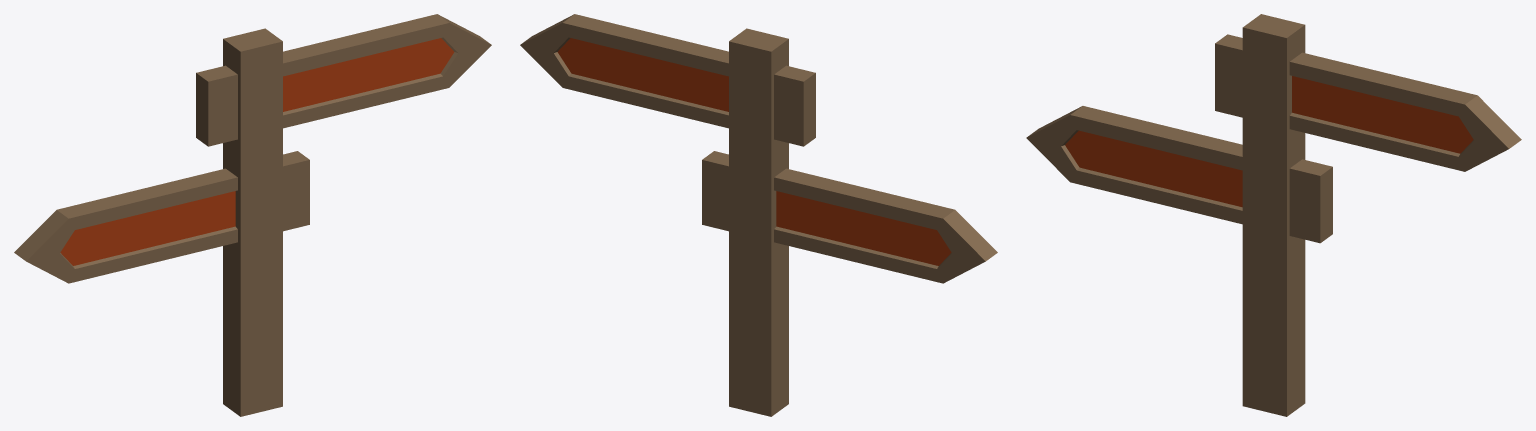
The model's file is SM_SignBoard_01_B.fbx.
3 renders of one model, left to right at view 1: azimuth 30°, elevation 25°; view 2: azimuth 150°, elevation 25°; view 3: azimuth 330°, elevation 25°, orthographic. The views are drawn at different scales.
Parts seen in each view (by area): view 1: pCube721; view 2: pCube721; view 3: pCube721.
Part boxes in pixels (x1,y1,x2,y2): pCube721: (14, 14, 491, 416); pCube721: (520, 14, 997, 416); pCube721: (1026, 14, 1521, 416).
Bounding box in the file's own units: 198 × 148 × 13.
1 material, 1 textured.
